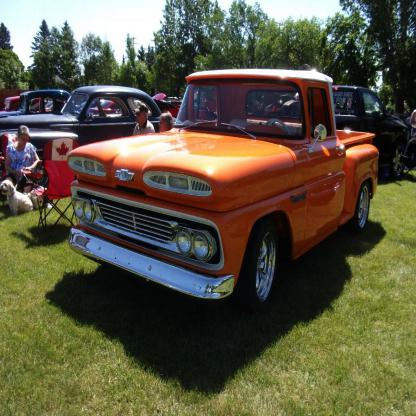Car: (68, 67, 380, 312), (0, 86, 162, 185), (332, 84, 415, 168), (0, 88, 84, 114), (0, 95, 50, 114), (91, 101, 118, 111)
Truck: (79, 82, 369, 320)
